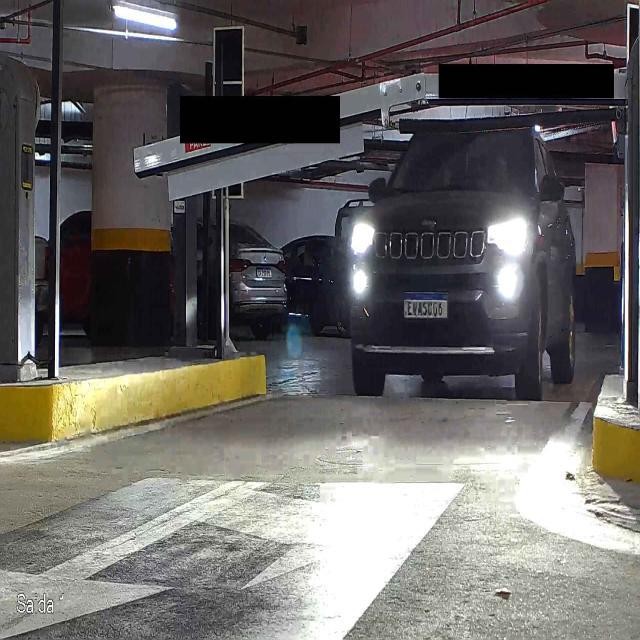mercosul_plate: (401, 290, 450, 320)
